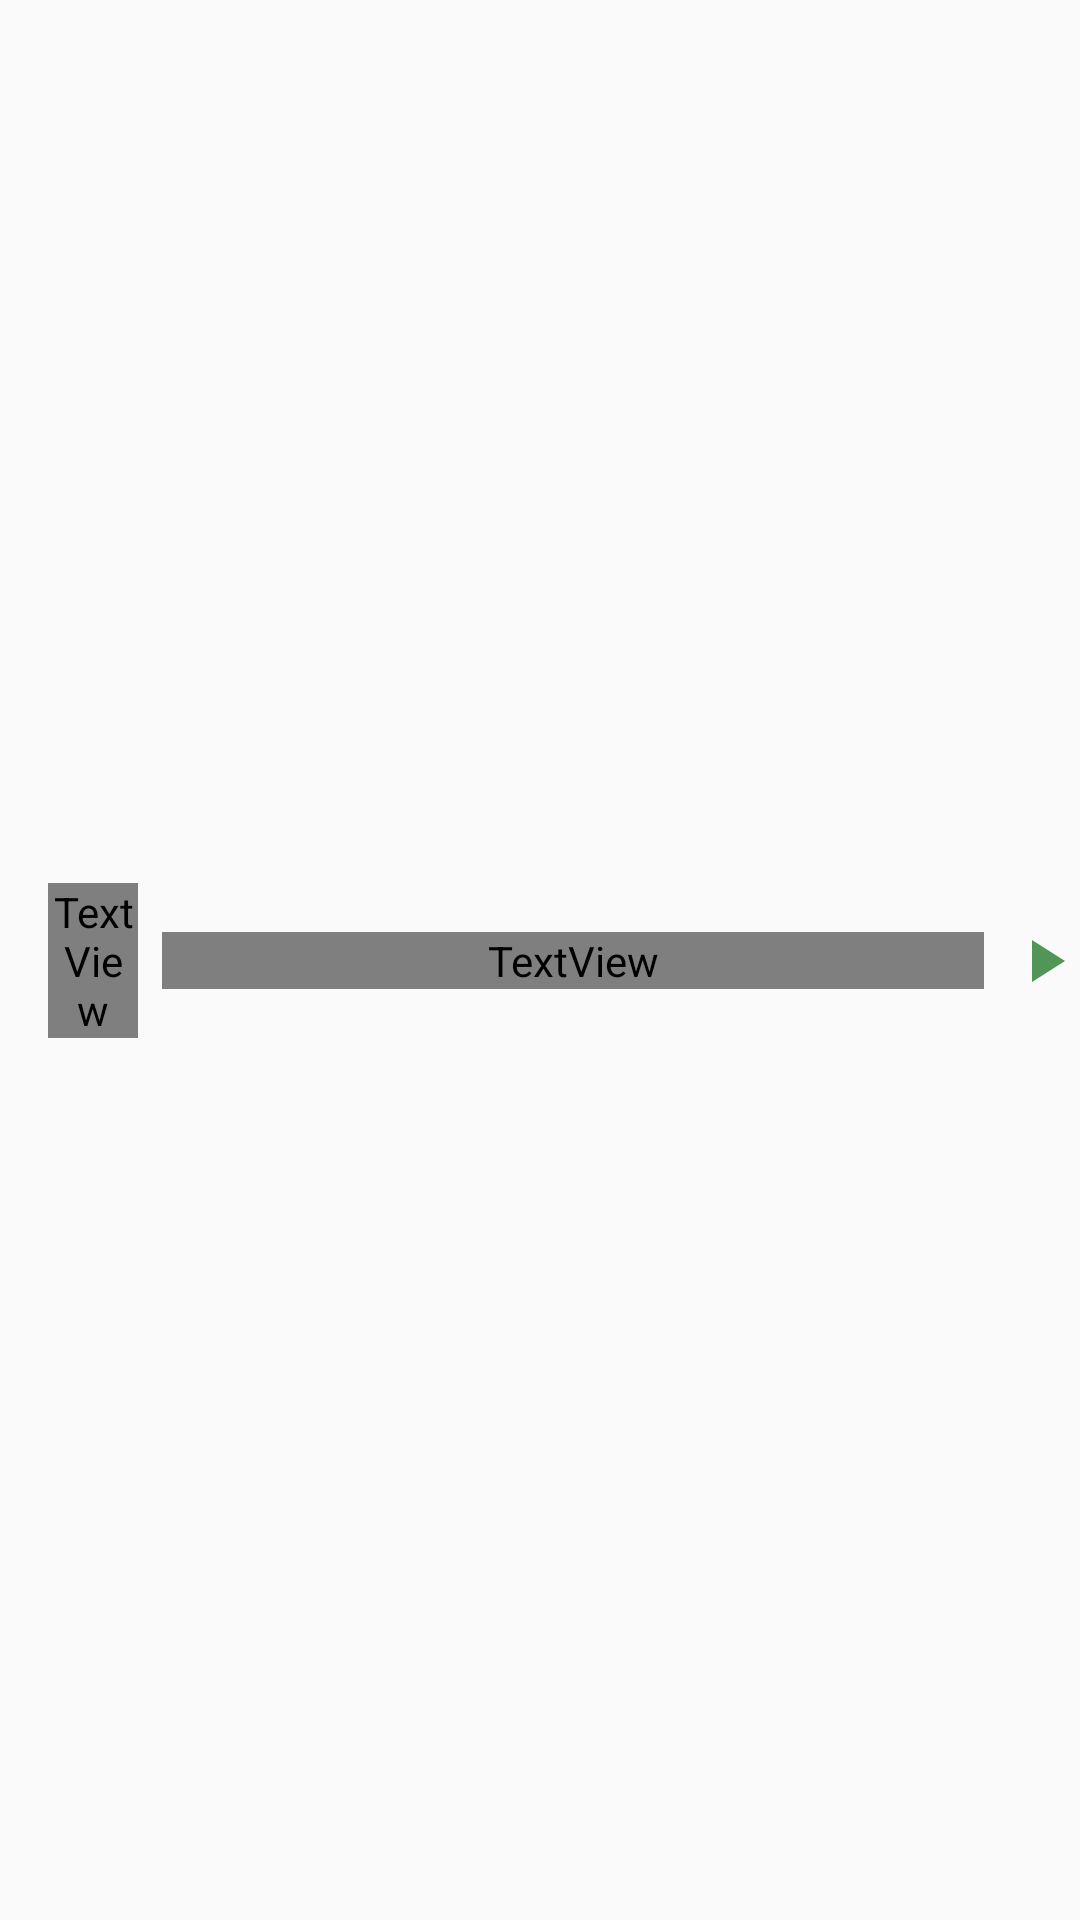

Icon click points for this 1080px×1920px phone screenshot, format (x,y):
play arrow: (1048,961)
